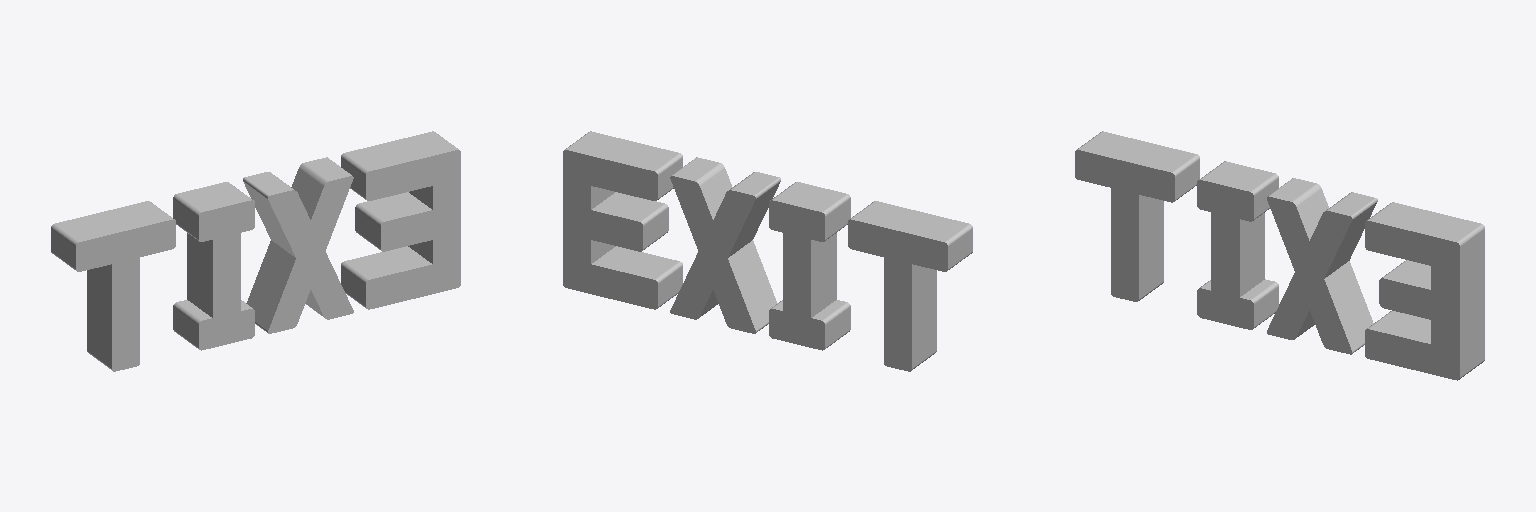
The model's file is EXITText.obj.
The picture shows the model from 3 angles: view 1: azimuth 30°, elevation 25°; view 2: azimuth 150°, elevation 25°; view 3: azimuth 330°, elevation 25°; orthographic projection.
Parts seen in each view (by area): view 1: テキスト; view 2: テキスト; view 3: テキスト.
Part boxes in pixels (x1,y1,x2,y2): テキスト: (51, 131, 460, 371); テキスト: (563, 131, 972, 371); テキスト: (1075, 131, 1484, 380).
Bounding box in the file's own units: 1.76 × 0.6036 × 0.2.